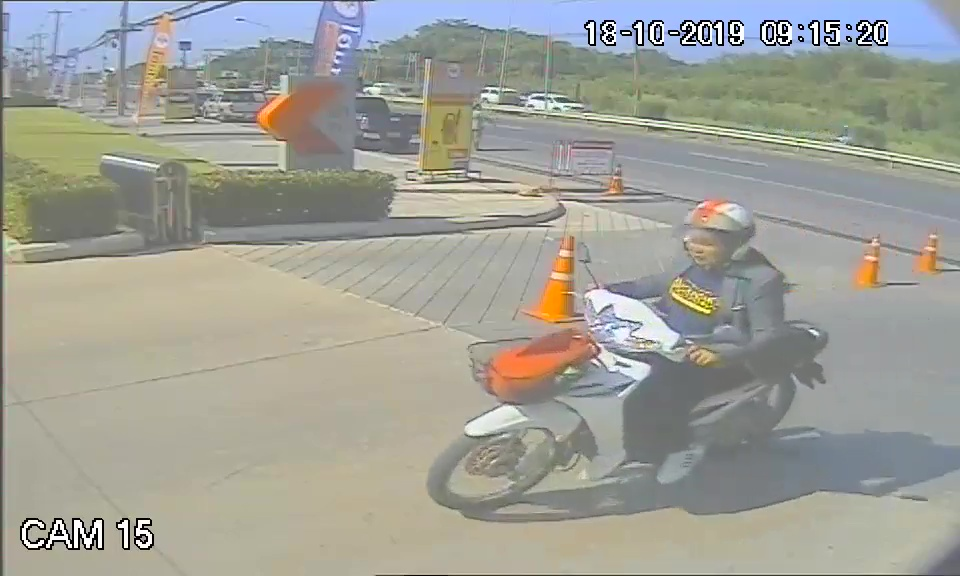motorcycle: (425, 289, 829, 507)
